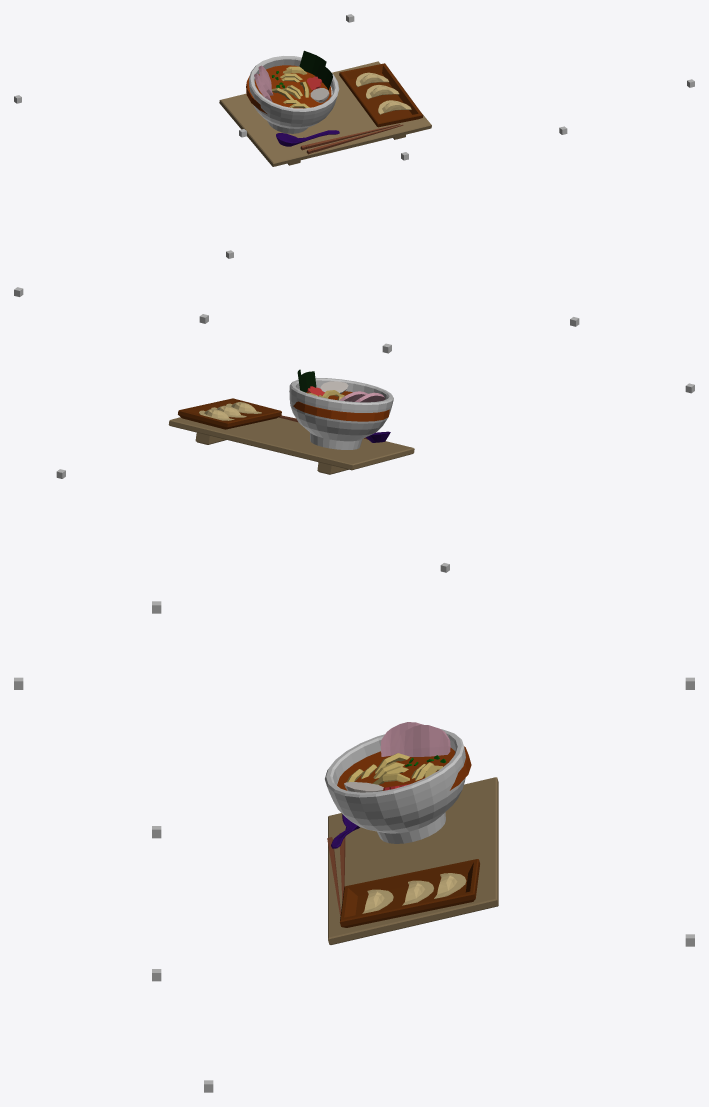
3 renders of one model, top to bottom at view 1: azimuth 30°, elevation 25°; view 2: azimuth 150°, elevation 25°; view 3: azimuth 270°, elevation 25°, orthographic. The views are drawn at different scales.
Visible parts, largest first — view 1: ramenf:Tray1, ramenf:polySurface176 polySurface7, ramenf:polySurface85pCube28, pCylinder1, ramenf:polySurface157, ramenf:SoupSpoon, ramenf:polySurface176 polySurface10; view 2: ramenf:Tray1, ramenf:polySurface176 polySurface7, ramenf:polySurface85pCube28, pCylinder1; view 3: ramenf:Tray1, ramenf:polySurface176 polySurface7, ramenf:polySurface85pCube28, pCylinder1, ramenf:polySurface176 polySurface12.
Boxes of the visible parts, <box> form: ramenf:Tray1: <box>219,61,431,166</box>; ramenf:polySurface176 polySurface7: <box>249,56,339,133</box>; ramenf:polySurface85pCube28: <box>339,63,423,127</box>; pCylinder1: <box>246,65,331,113</box>; ramenf:polySurface157: <box>300,124,403,154</box>; ramenf:SoupSpoon: <box>276,130,339,146</box>; ramenf:polySurface176 polySurface10: <box>299,50,326,75</box>; ramenf:Tray1: <box>168,417,414,474</box>; ramenf:polySurface176 polySurface7: <box>289,377,393,449</box>; ramenf:polySurface85pCube28: <box>178,398,281,429</box>; pCylinder1: <box>293,391,389,421</box>; ramenf:Tray1: <box>328,777,498,944</box>; ramenf:polySurface176 polySurface7: <box>325,729,465,843</box>; ramenf:polySurface85pCube28: <box>340,859,479,927</box>; pCylinder1: <box>337,746,471,790</box>; ramenf:polySurface176 polySurface12: <box>395,724,450,756</box>.
Size of the model in its own units: 103 by 19.66 by 72.95.
